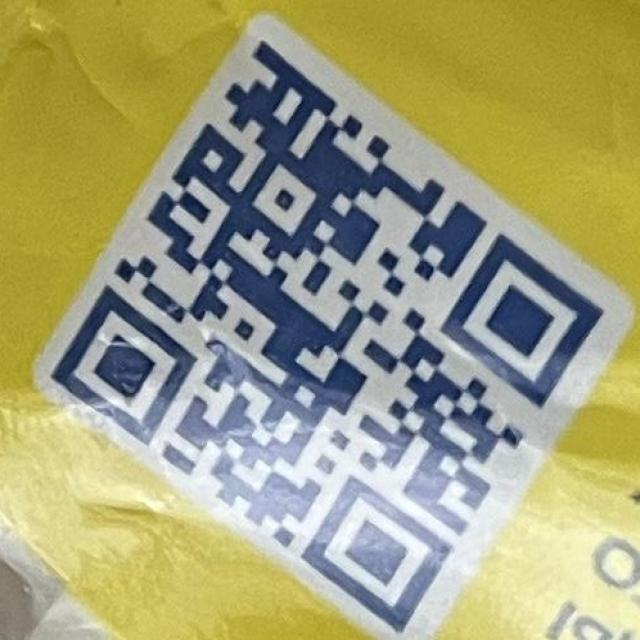QR_CODE: (51, 39, 603, 633)
